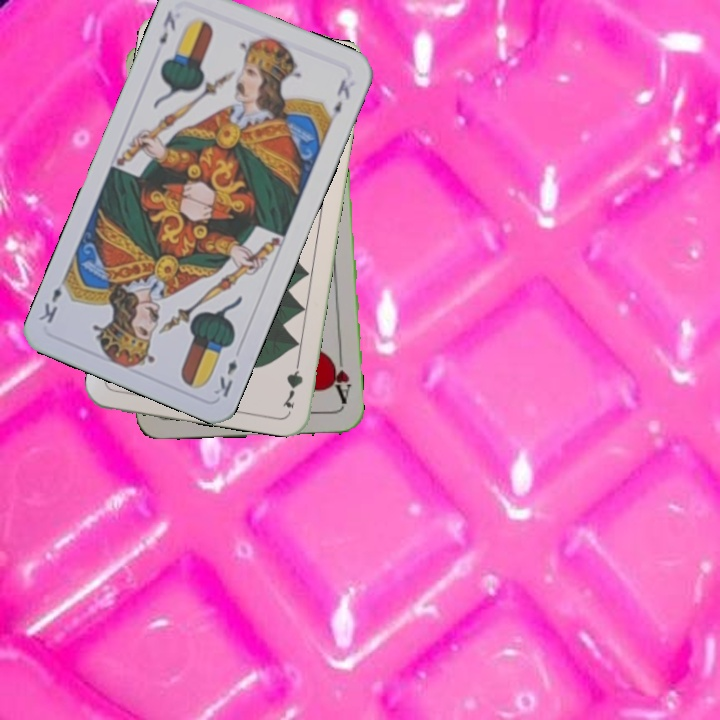EK: (210, 355, 240, 400), (155, 6, 178, 47)
G7: (279, 352, 306, 411)
HA: (327, 349, 354, 407)
